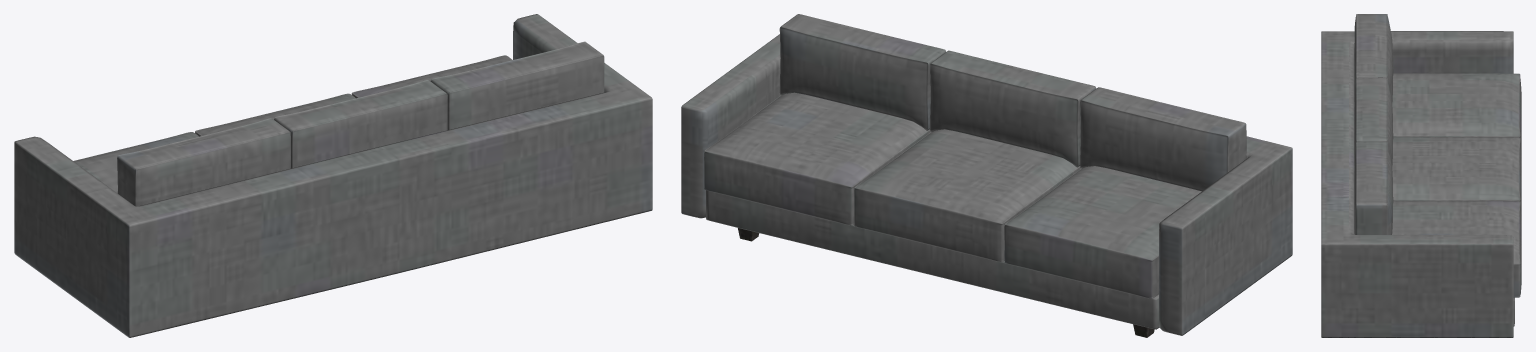
Rendered from Sofa03.glb.
3 views of the same model, side by side, from view 1: azimuth 30°, elevation 25°; view 2: azimuth 150°, elevation 25°; view 3: azimuth 270°, elevation 25° (orthographic). The views are drawn at different scales.
Parts seen in each view (by area): view 1: Sofa03_model; view 2: Sofa03_model; view 3: Sofa03_model.
Part boxes in pixels (x1,y1,x2,y2): Sofa03_model: [14, 14, 652, 337]; Sofa03_model: [681, 14, 1292, 337]; Sofa03_model: [1321, 14, 1521, 337].
Size of the model in its own units: 4.75 by 1.48 by 1.89.
1 material, 1 textured.
